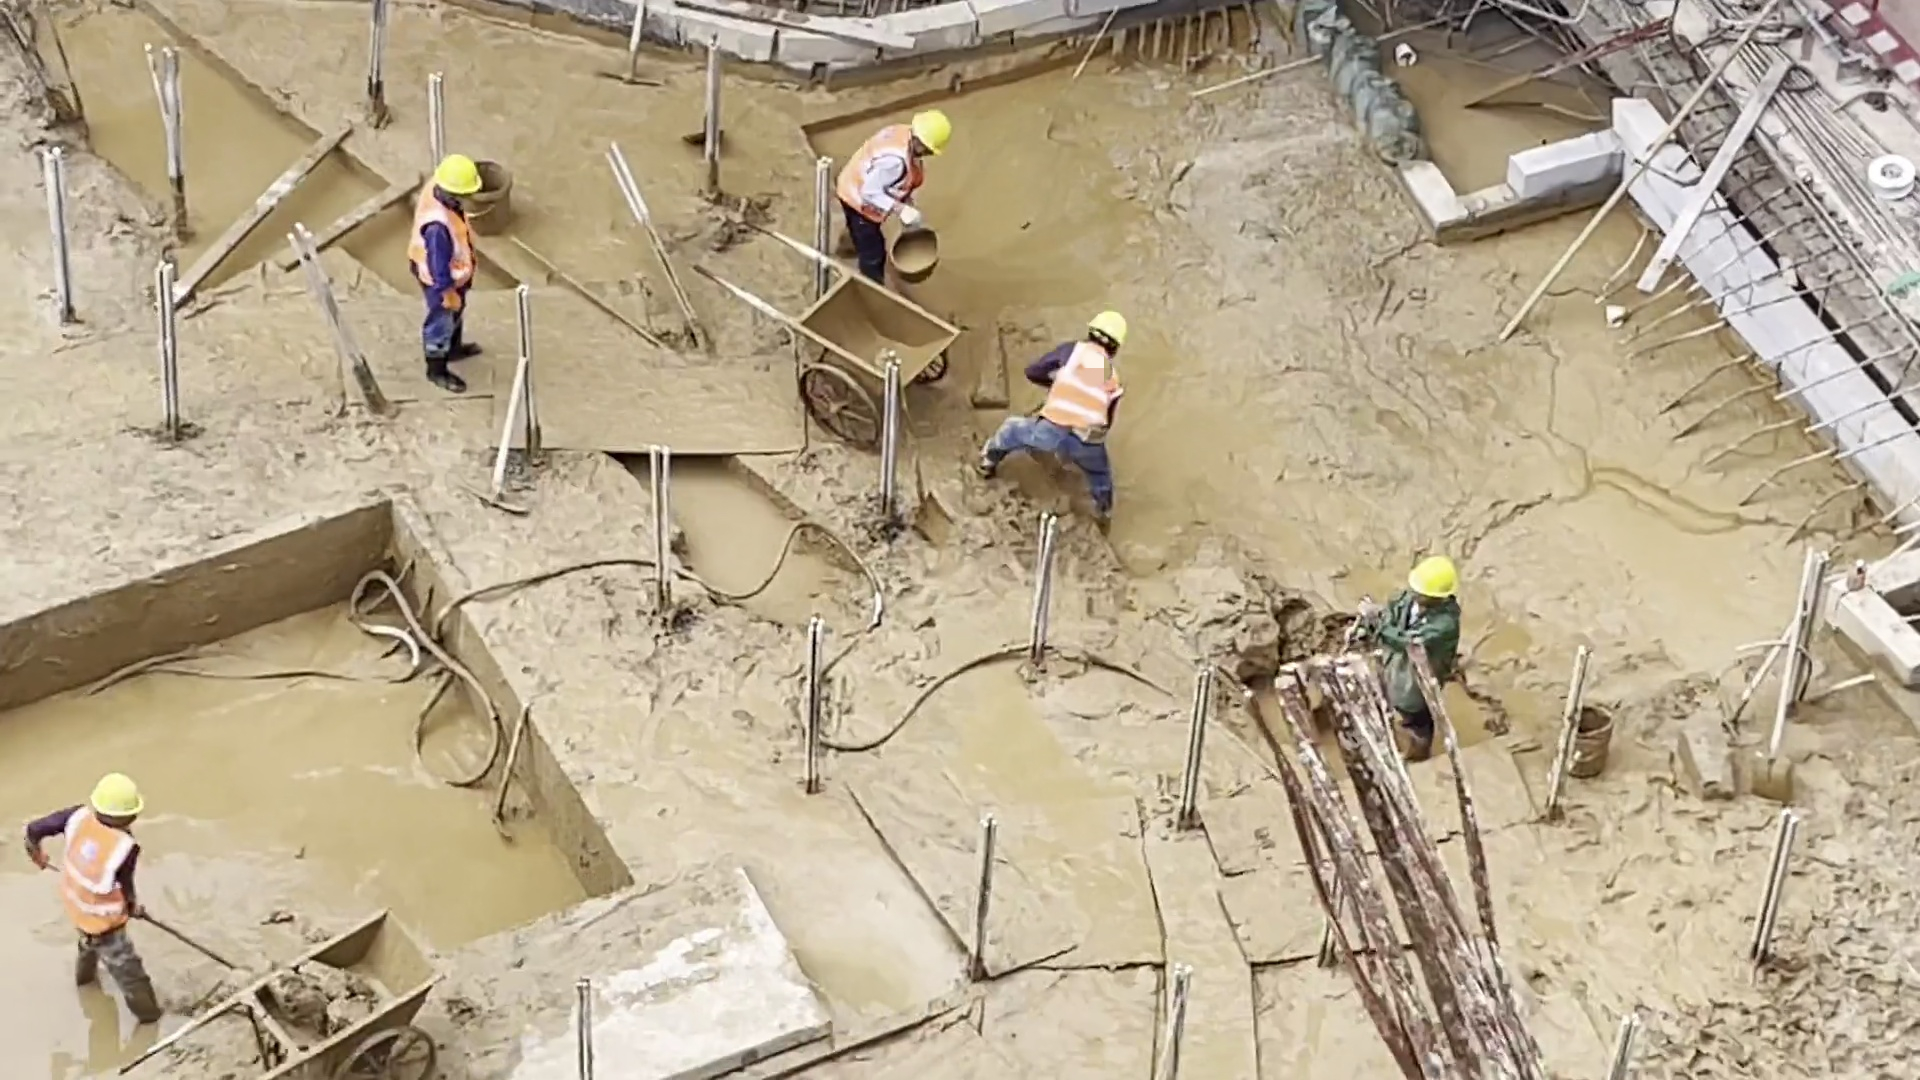handcart: (689, 221, 962, 439), (126, 912, 442, 1080)
helmet: (90, 774, 145, 820), (431, 150, 484, 196), (911, 108, 954, 159), (1409, 556, 1461, 597), (1083, 309, 1131, 348)
person: (969, 305, 1131, 537), (24, 776, 171, 1023), (1355, 559, 1478, 748), (833, 108, 953, 281), (404, 148, 482, 397)
vest: (1035, 332, 1124, 443), (833, 122, 924, 222), (59, 811, 129, 934), (411, 183, 479, 294)
